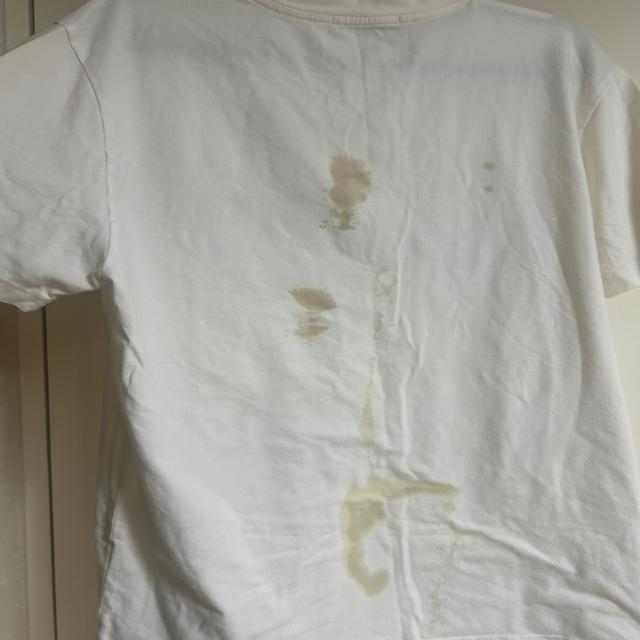stain: (320, 508, 400, 599), (332, 471, 470, 518), (326, 152, 382, 228), (280, 288, 338, 344), (356, 372, 392, 446), (464, 153, 506, 195), (373, 260, 409, 298)
